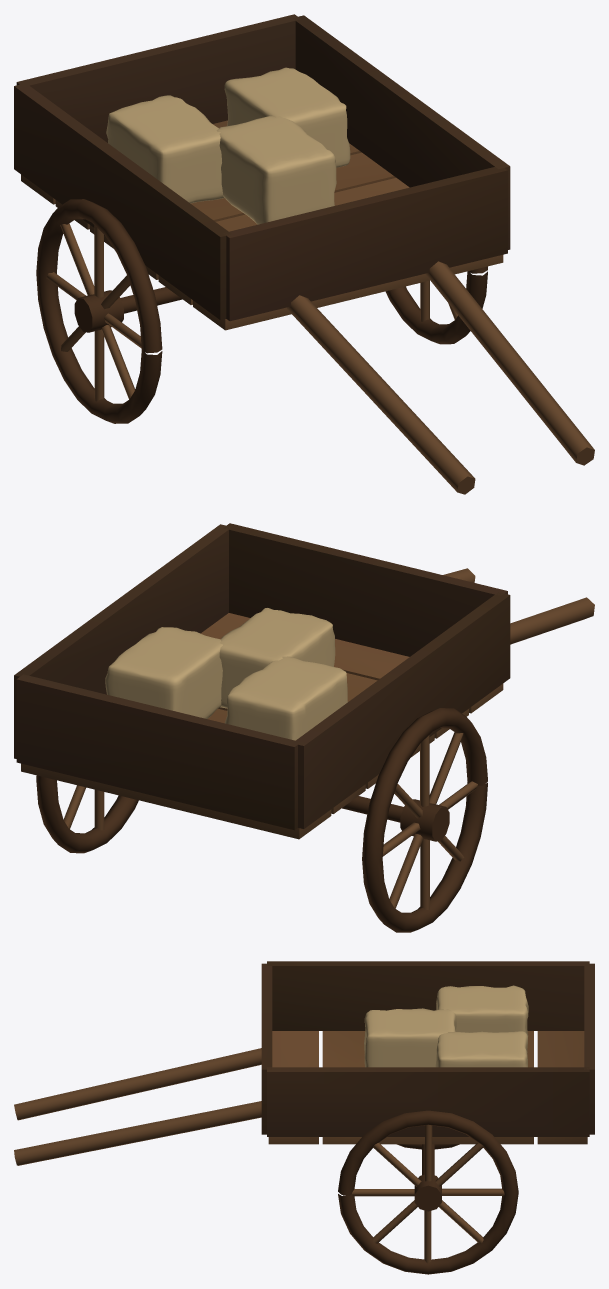
The model's file is cart.glb.
3 views of the same model, one above another, from view 1: azimuth 30°, elevation 25°; view 2: azimuth 150°, elevation 25°; view 3: azimuth 270°, elevation 25° (orthographic). The views are drawn at different scales.
Parts seen in each view (by area): view 1: cart; view 2: cart; view 3: cart.
Part boxes in pixels (x1,y1,x2,y2): cart: (14, 14, 594, 494); cart: (14, 523, 594, 932); cart: (14, 961, 594, 1274).
Bounding box in the file's own units: 1.8 × 1.2 × 3.24.
